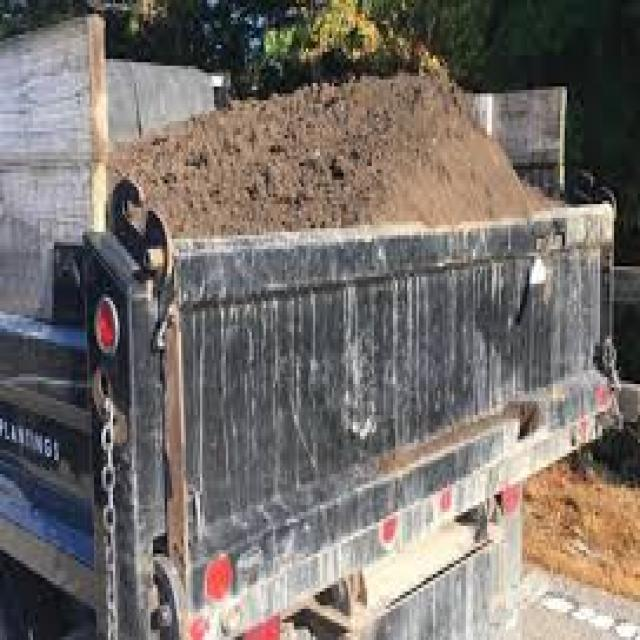uncovered: (7, 13, 603, 640)
